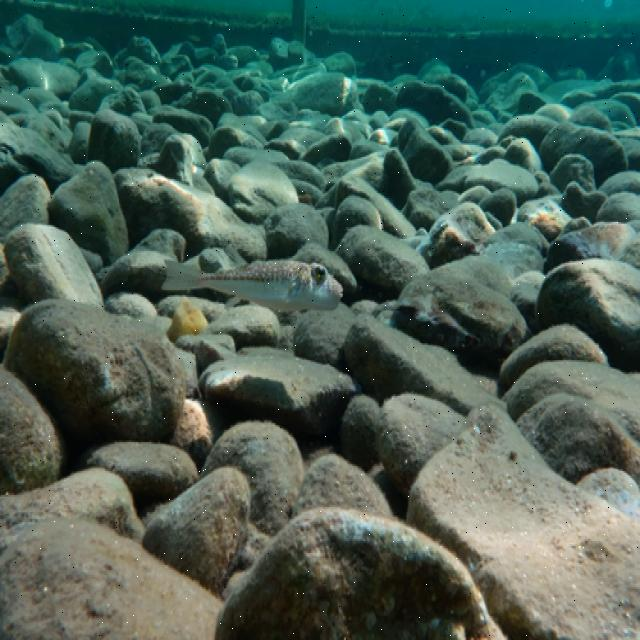Balik: (162, 262, 343, 310)
